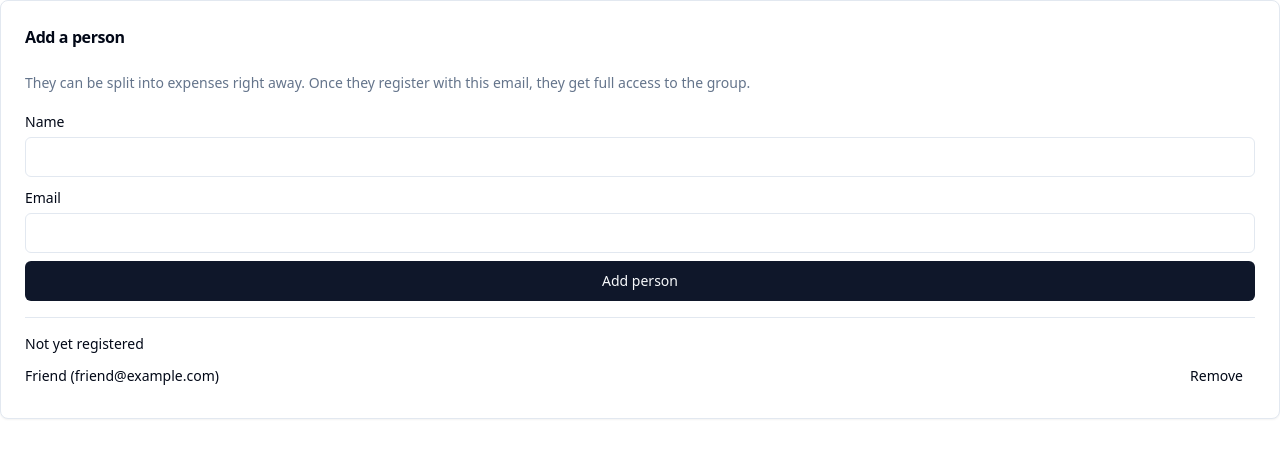
Test: AddMemberManager › shows an error and keeps the member listed when removal is rejected
The image size is (1280, 464).
Click the button "Remove" at (1217, 376), box [1178,358,1255,394]
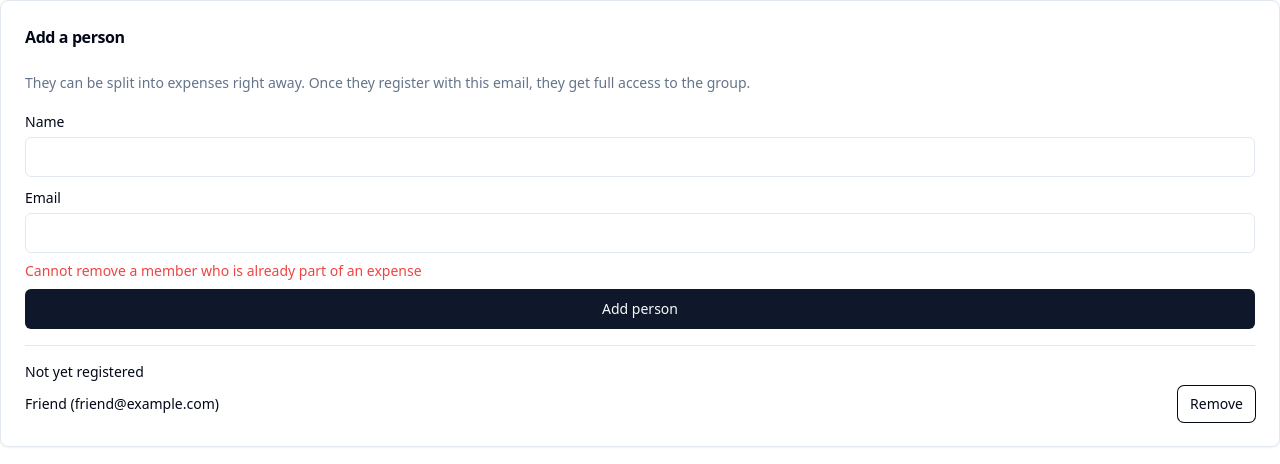
Expected: the text "Friend (friend@example.com)" is shown, [25,394,219,414]
Expected: the text "Cannot remove a member who is already part of an expense" is shown, [25,261,422,280]
